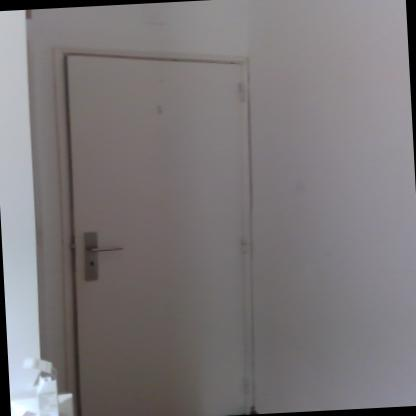closed: (18, 29, 288, 415)
